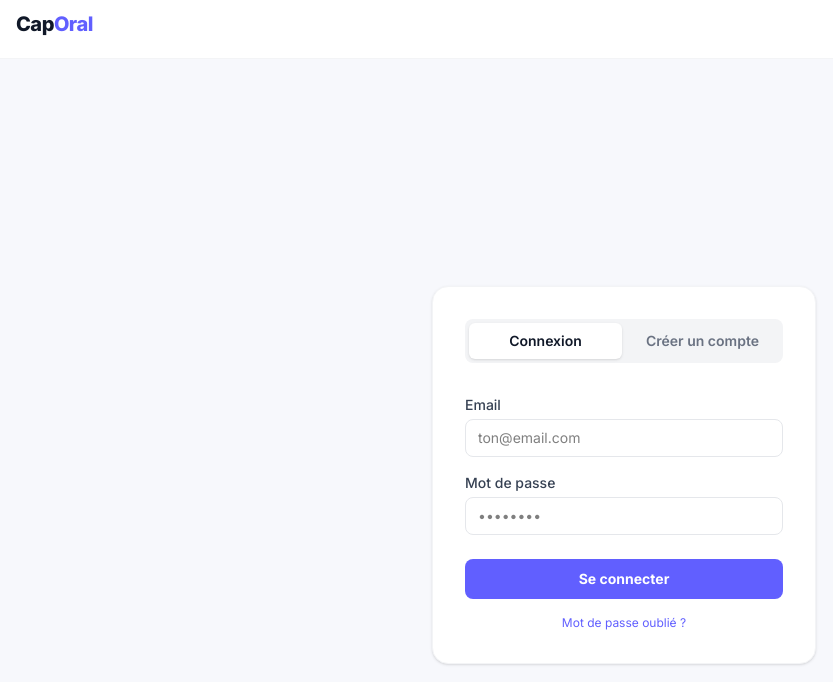
it: ConnexionPage › shows forgot password form when link clicked
The image size is (833, 682).
Click the button "Mot de passe oublié ?": (624,622) left=465, top=614, right=783, bottom=630
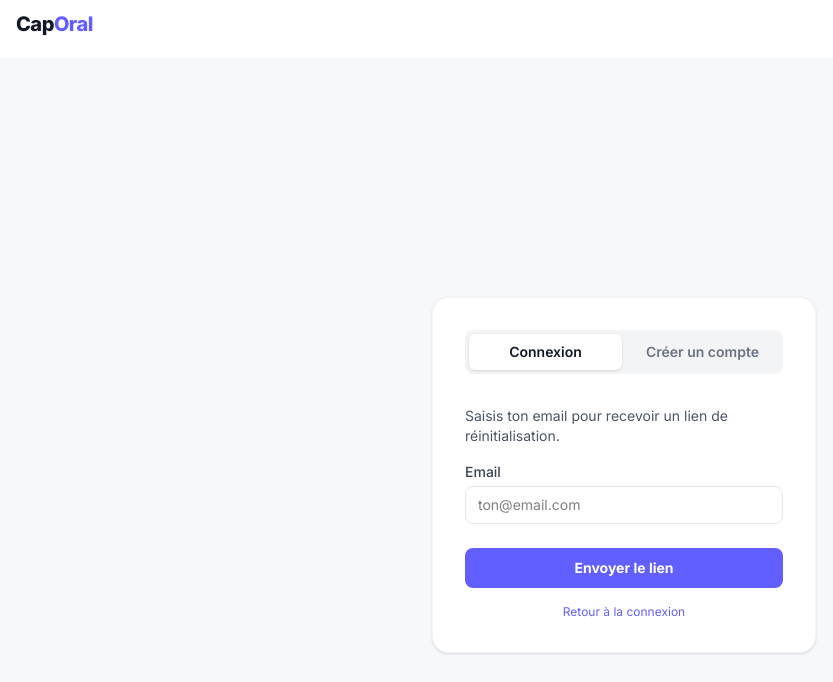
Result: the text "Saisis ton email pour recevoir un lien de réinitialisation." is shown at left=465, top=406, right=728, bottom=444
